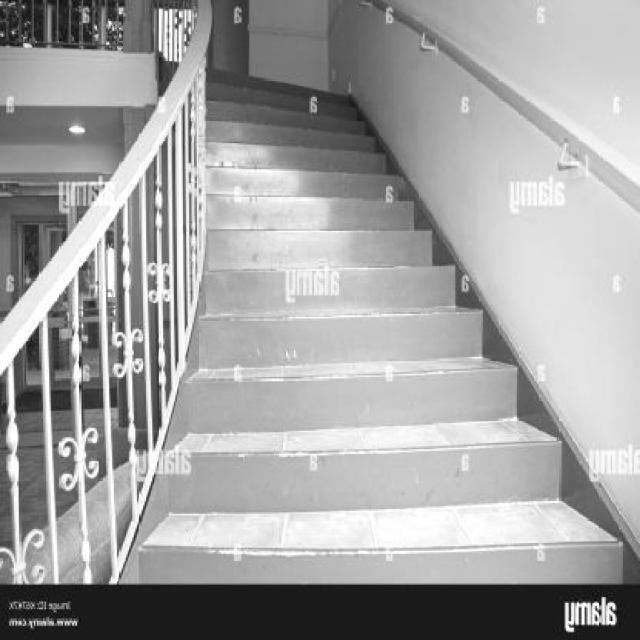stair: (10, 0, 633, 583)
